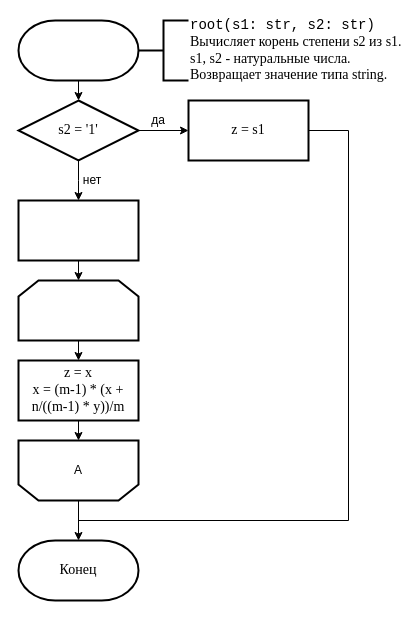
Some shapes in this 419 by 619 pixel diagram are drawn without their labels. Each missing label, with the centre of its shape:
"x = s1" belongs at point (78, 230).
"А. Пока x < z" belongs at point (78, 310).
"Начало" belongs at point (78, 50).
